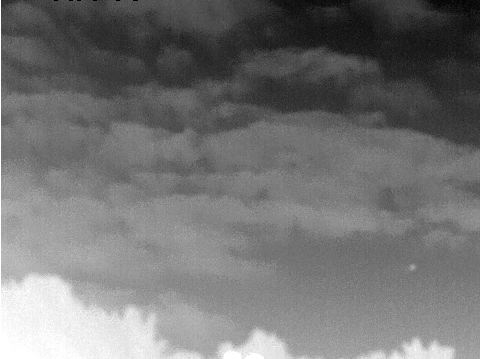dim target: (407, 263, 417, 272)
